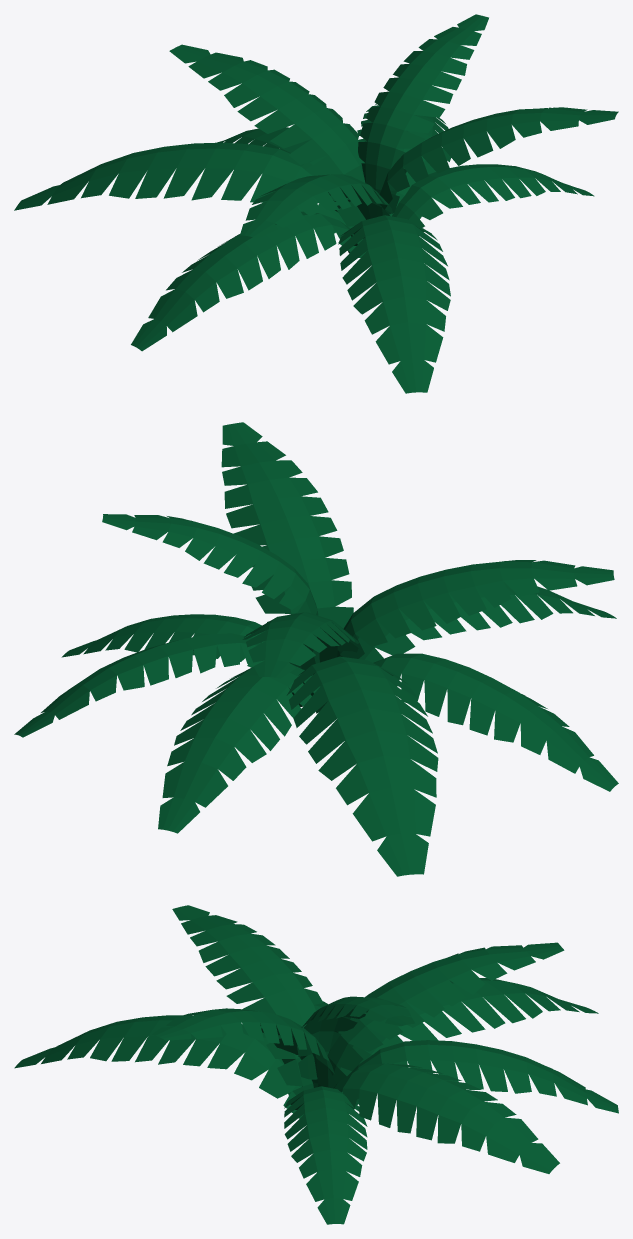
The model's file is kust1.fbx.
3 views of the same model, one above another, from view 1: azimuth 30°, elevation 25°; view 2: azimuth 150°, elevation 25°; view 3: azimuth 270°, elevation 25° (orthographic). The views are drawn at different scales.
Parts seen in each view (by area): view 1: grass3; view 2: grass3; view 3: grass3.
Boxes of the visible parts, x1,y1,x2,y2 form: grass3: (14, 14, 618, 393); grass3: (14, 422, 618, 876); grass3: (14, 905, 618, 1224).
Size of the model in its own units: 168 by 63.93 by 187.
